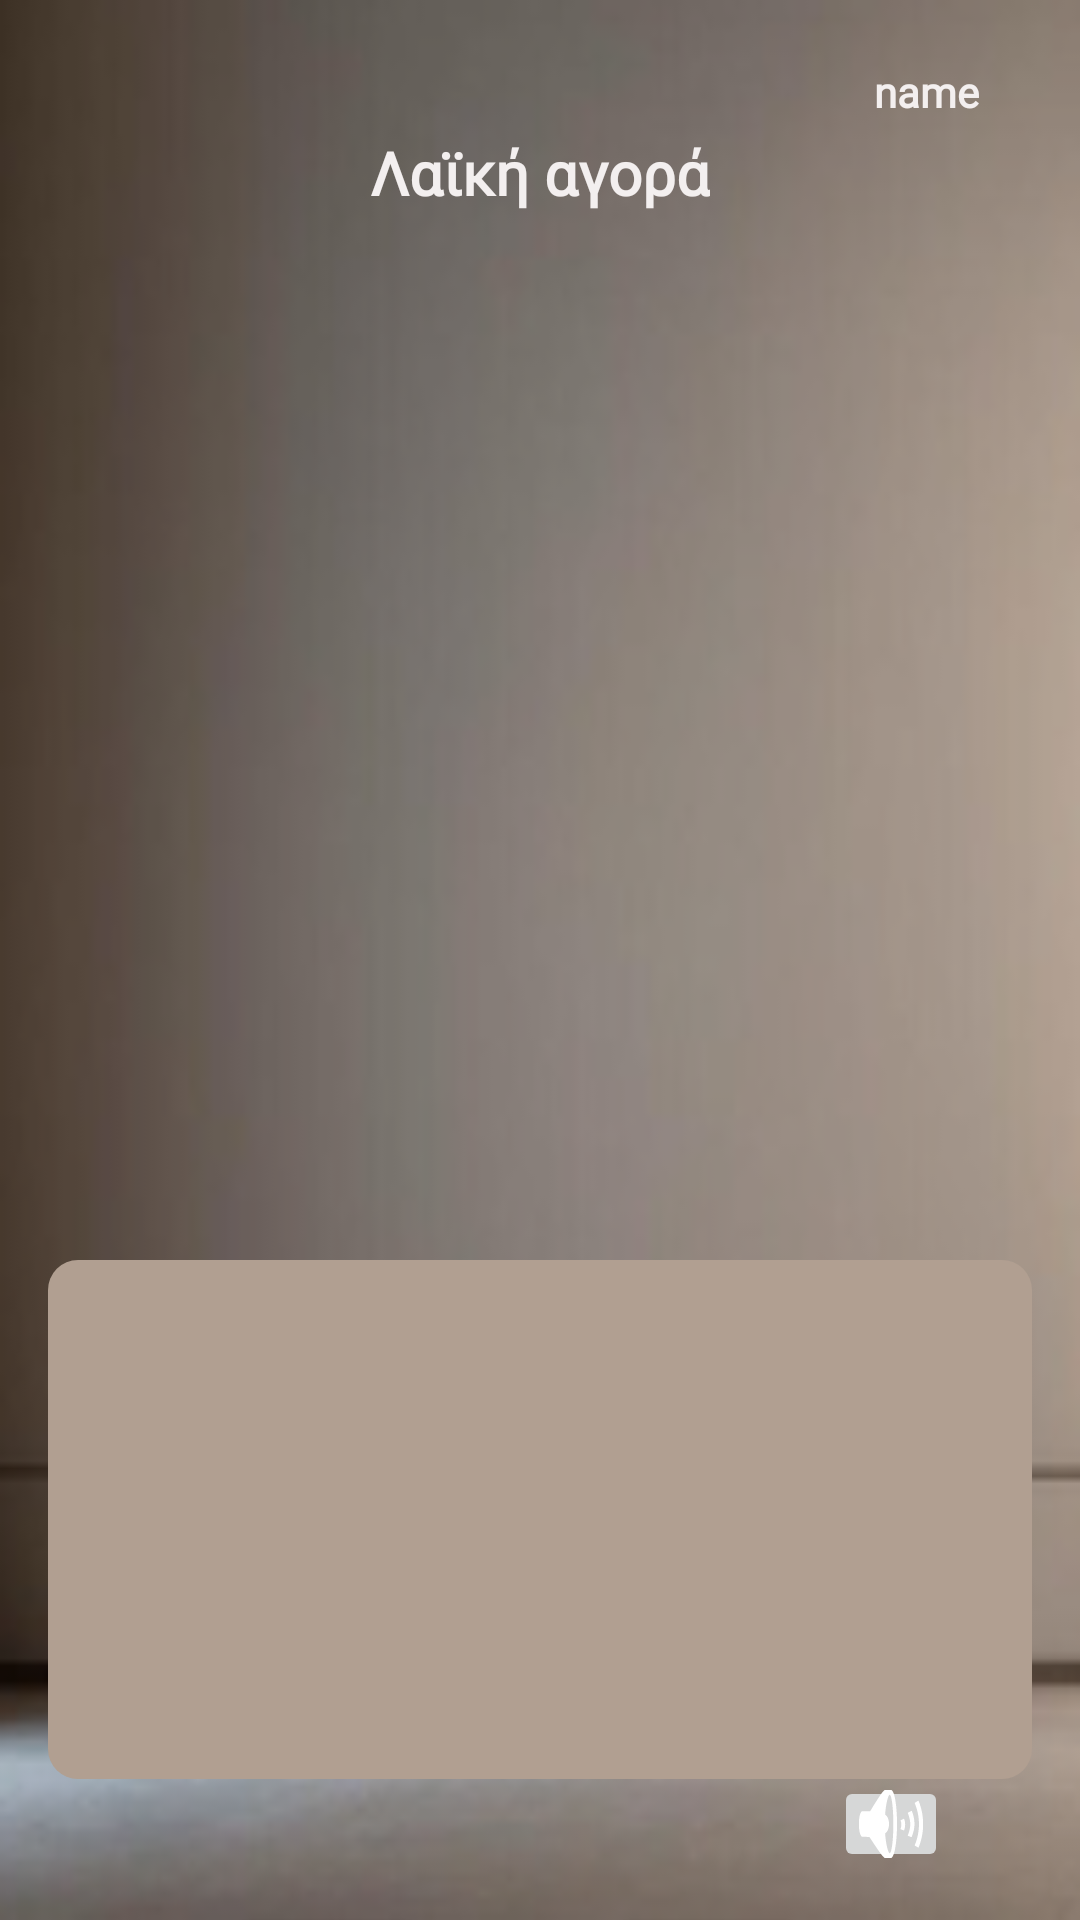

Where to tap for icons on this 1080w x 1920h app screen, as (x=x, y=y):
lock silent mode off: (x=891, y=1824)
